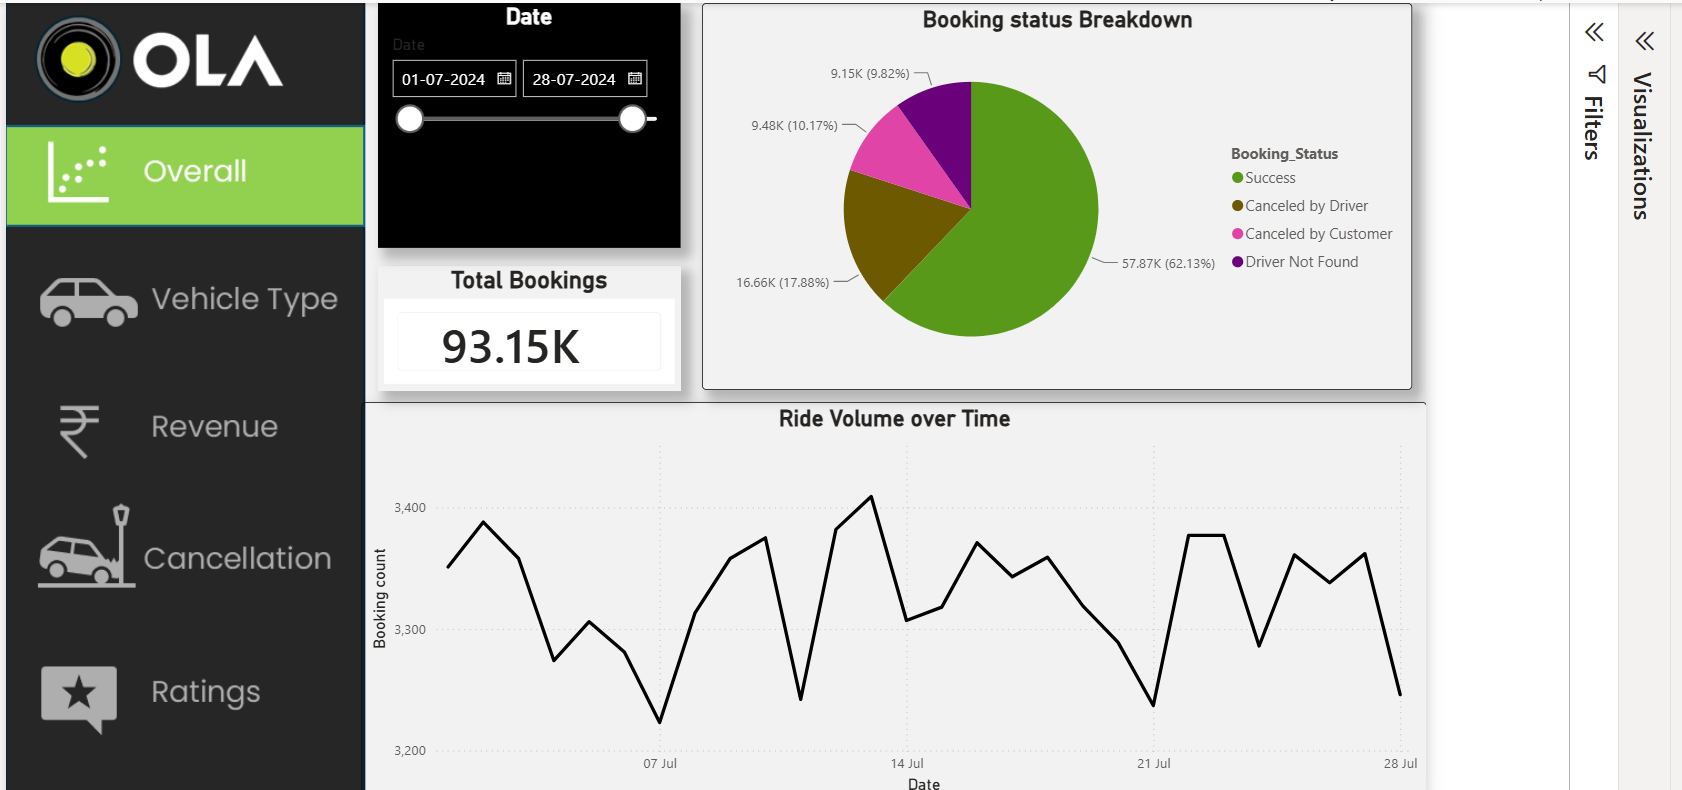

The dashboard page shown, as its layout file describes it:
{"tool":"powerbi","page":{"name":"overall","canvas":[1280,720],"ordinal":0},"visuals":[{"type":"actionButton","box":[0,108.1,320.4,93.3],"z":0},{"type":"actionButton","box":[0,220.3,320.4,93.3],"z":1000},{"type":"actionButton","box":[0,336.6,320.4,93.3],"z":2000},{"type":"actionButton","box":[0,451.5,320.4,93.3],"z":3000},{"type":"actionButton","box":[0,585.3,320.4,93.3],"z":4000},{"type":"lineChart","title":"Ride Volume over Time","fields":{"Y":["CountNonNull(July.Booking_ID)"],"Category":["July.Date"]},"box":[320,360,960,360],"z":5000},{"type":"pieChart","title":"Booking status Breakdown","fields":{"Category":["July.Booking_Status"],"Y":["CountNonNull(July.Booking_ID)"]},"box":[626.7,0,640,348.3],"z":6000},{"type":"slicer","title":"Date","fields":{"Values":["July.Date"]},"box":[335.6,0,272.5,220.7],"z":7000},{"type":"cardVisual","title":"Total Bookings","fields":{"Data":["CountNonNull(July.Booking_ID)"]},"box":[335.6,236.5,272.5,112.6],"z":8000}]}

Visuals, with their boxes on the page's 1280x720 design canvas (x1, y1, x2, y2). These are canvas units, not pixel positions in the 1682x790 screenshot, which may show the page scaled, cropped or inside an application window:
actionButton: [0,108,320,201]
actionButton: [0,220,320,314]
actionButton: [0,337,320,430]
actionButton: [0,452,320,545]
actionButton: [0,585,320,679]
"Ride Volume over Time" lineChart: [320,360,1280,720]
"Booking status Breakdown" pieChart: [627,0,1267,348]
"Date" slicer: [336,0,608,221]
"Total Bookings" cardVisual: [336,236,608,349]
